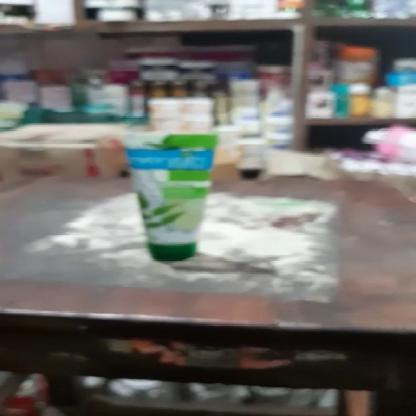EY NATURALS NEEM FACE WASH AY 50G: (120, 124, 226, 259)
